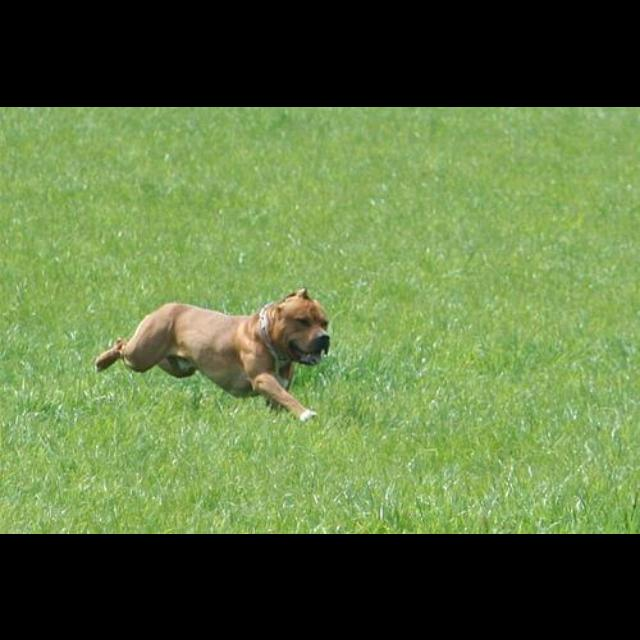staffford: (95, 287, 331, 423)
